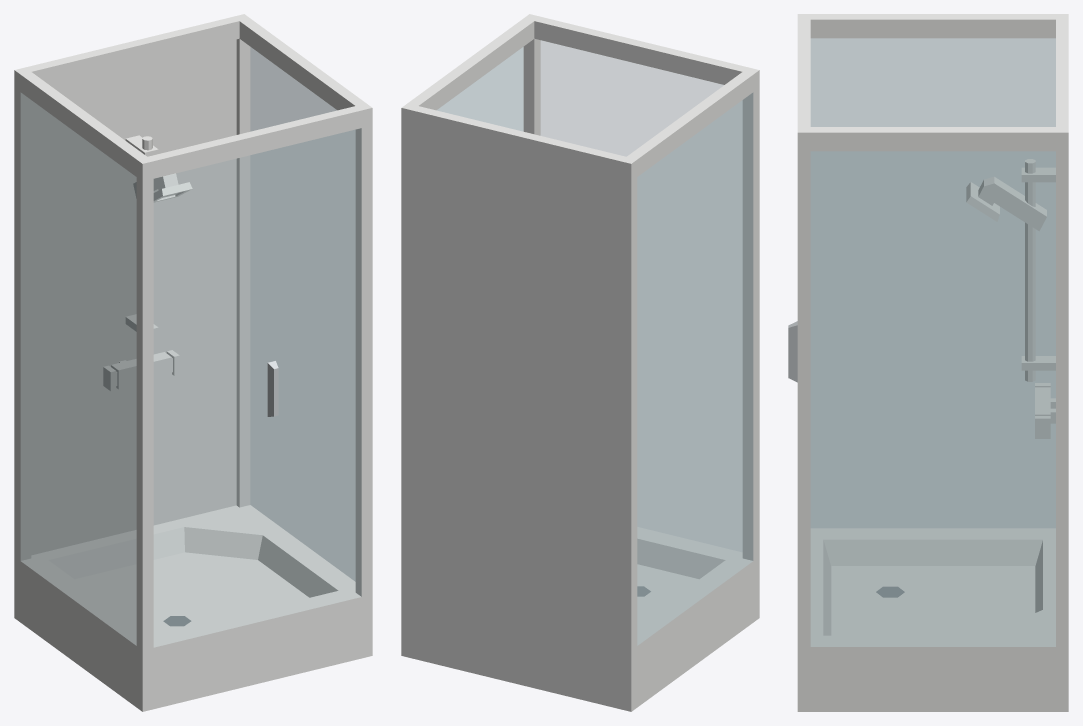
File: shower.glb
3 views of the same model, side by side, from view 1: azimuth 30°, elevation 25°; view 2: azimuth 150°, elevation 25°; view 3: azimuth 270°, elevation 25° (orthographic). The views are drawn at different scales.
Visible parts, largest first — view 1: shower; view 2: shower; view 3: shower.
Part boxes in pixels (box(x1,y1,x2,y2)): shower: box(14, 14, 372, 711); shower: box(401, 14, 759, 711); shower: box(788, 14, 1068, 711).
Bounding box in the file's own units: 0.9 × 2.05 × 0.9.
